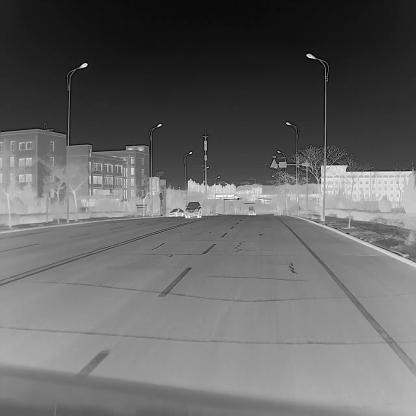car: (184, 200, 202, 218), (168, 207, 184, 217)
truck: (247, 205, 256, 215)
